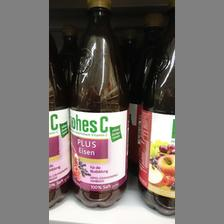Saft: (68, 1, 130, 205), (138, 11, 174, 213)
